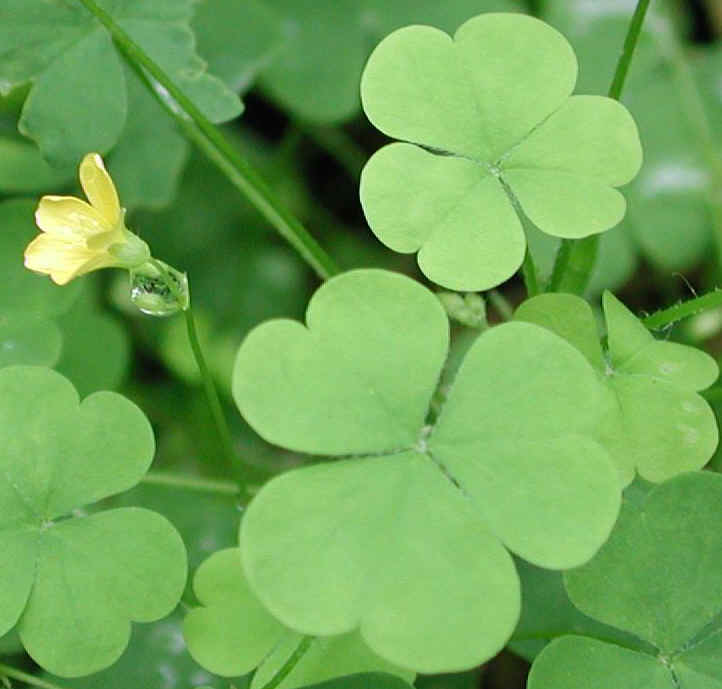oxalis: (223, 263, 669, 665), (313, 36, 675, 306), (13, 361, 234, 677)
